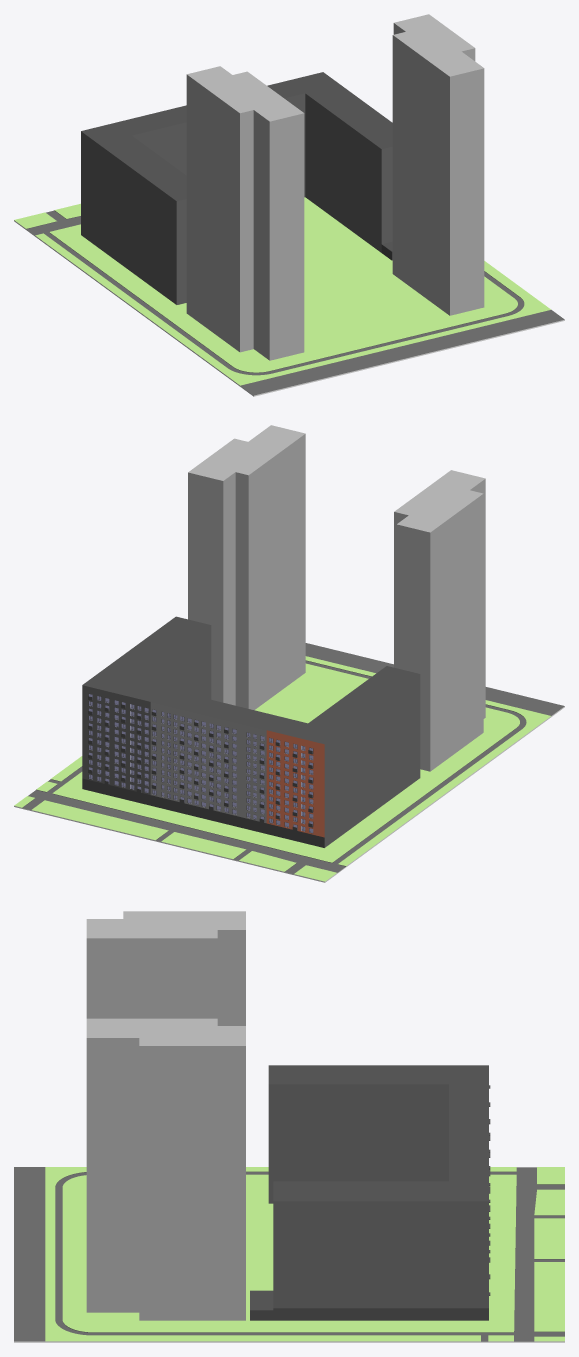
File: square_skin-v.0.2.obj
The picture shows the model from 3 angles, top to bottom: view 1: azimuth 30°, elevation 25°; view 2: azimuth 150°, elevation 25°; view 3: azimuth 270°, elevation 25°; orthographic projection. The views are drawn at different scales.
Parts seen in each view (by area): view 1: Mesh1 Group1 Model, Mesh3 Group3 Model, Mesh4 Group4 Model, Mesh2 Group2 Model; view 2: Mesh2 Group2 Model, Mesh4 Group4 Model, Mesh3 Group3 Model, Mesh1 Group1 Model, Mesh353 Group5 Model; view 3: Mesh4 Group4 Model, Mesh2 Group2 Model, Mesh3 Group3 Model, Mesh1 Group1 Model.
Boxes of the visible parts, x1,y1,x2,y2 form: Mesh1 Group1 Model: [186, 66, 304, 360]; Mesh3 Group3 Model: [14, 197, 564, 396]; Mesh4 Group4 Model: [81, 72, 392, 304]; Mesh2 Group2 Model: [392, 14, 484, 315]; Mesh2 Group2 Model: [188, 425, 305, 710]; Mesh4 Group4 Model: [82, 616, 420, 847]; Mesh3 Group3 Model: [14, 643, 564, 882]; Mesh1 Group1 Model: [394, 470, 485, 771]; Mesh353 Group5 Model: [82, 685, 324, 837]; Mesh4 Group4 Model: [250, 1065, 488, 1320]; Mesh2 Group2 Model: [86, 1018, 245, 1320]; Mesh3 Group3 Model: [14, 1167, 564, 1342]; Mesh1 Group1 Model: [86, 911, 245, 1025].
Bounding box in the file's own units: 134800 × 99917 × 180000.
